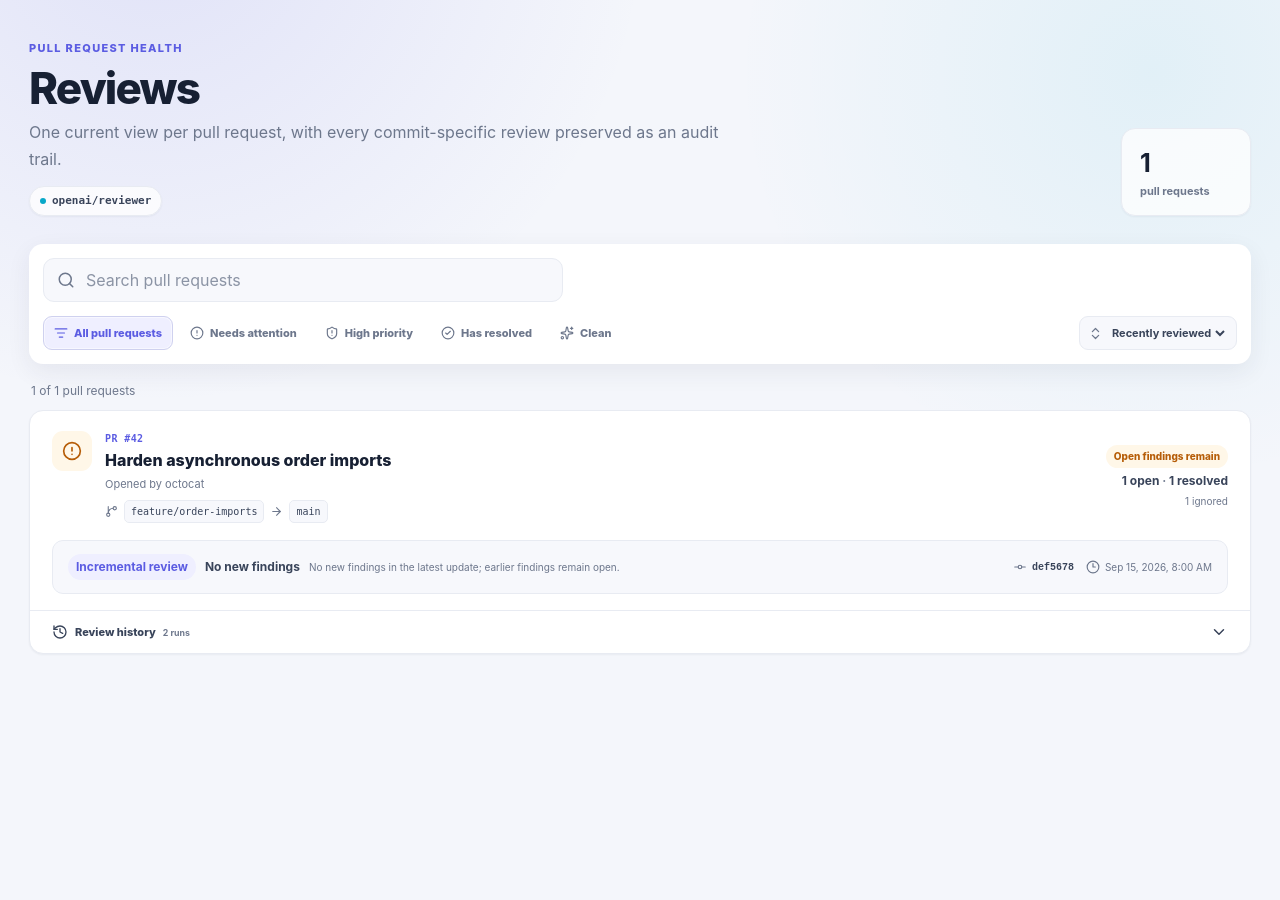
Reviews › filters PR cards using aggregate current health
expect the text "1 of 1 pull requests" is shown: met, box [31, 382, 135, 400]
Click the button "Clean": (586, 333) [549, 316, 622, 350]
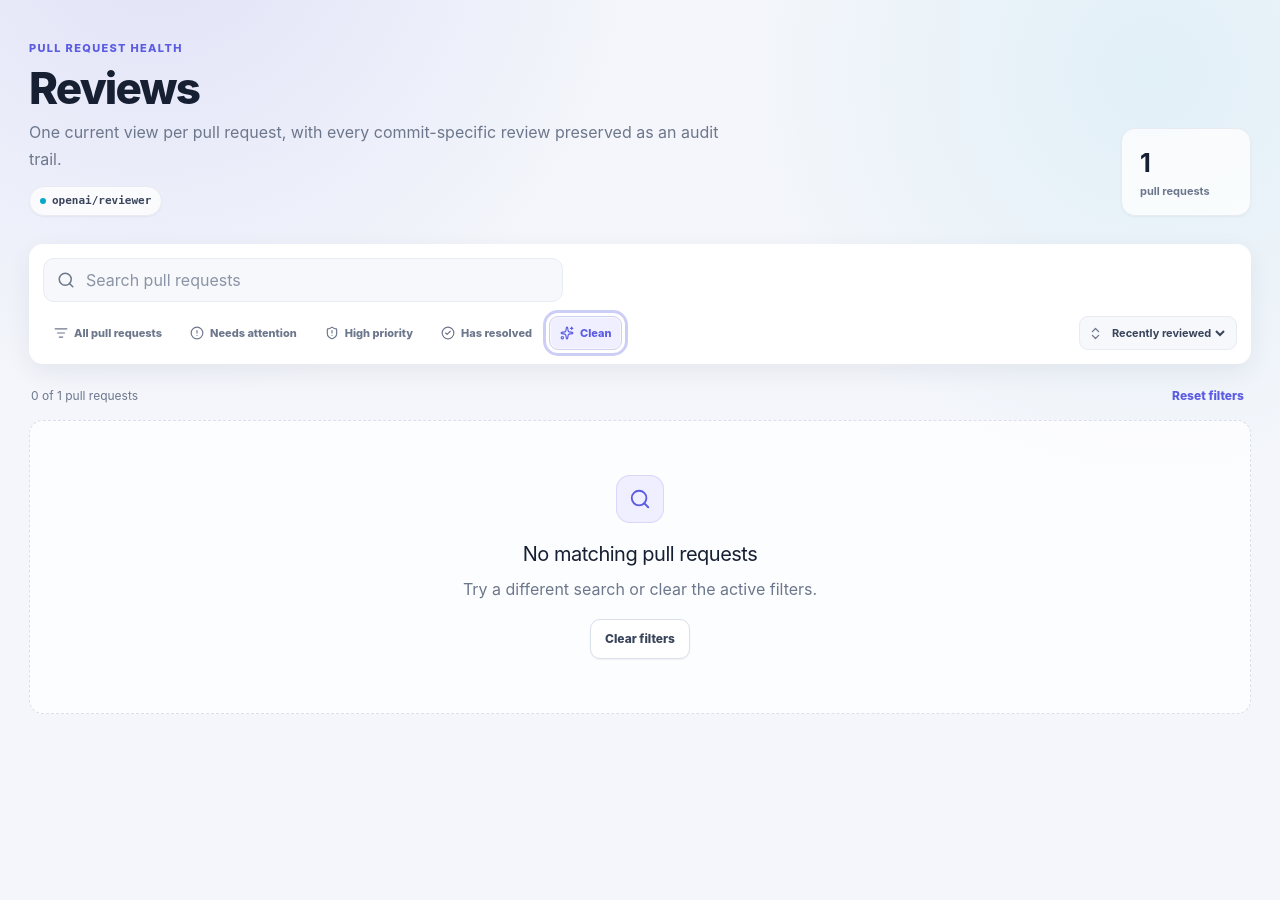
expect the text "0 of 1 pull requests" is shown: met, box [31, 387, 138, 405]
expect the heading "No matching pull requests" is shown: met, box [523, 539, 757, 569]
